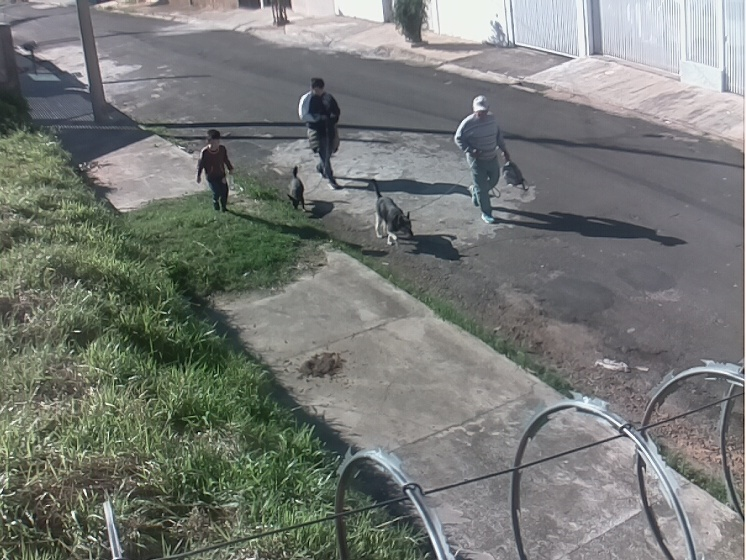person: (453, 95, 512, 224), (298, 77, 343, 190), (195, 129, 236, 214)
